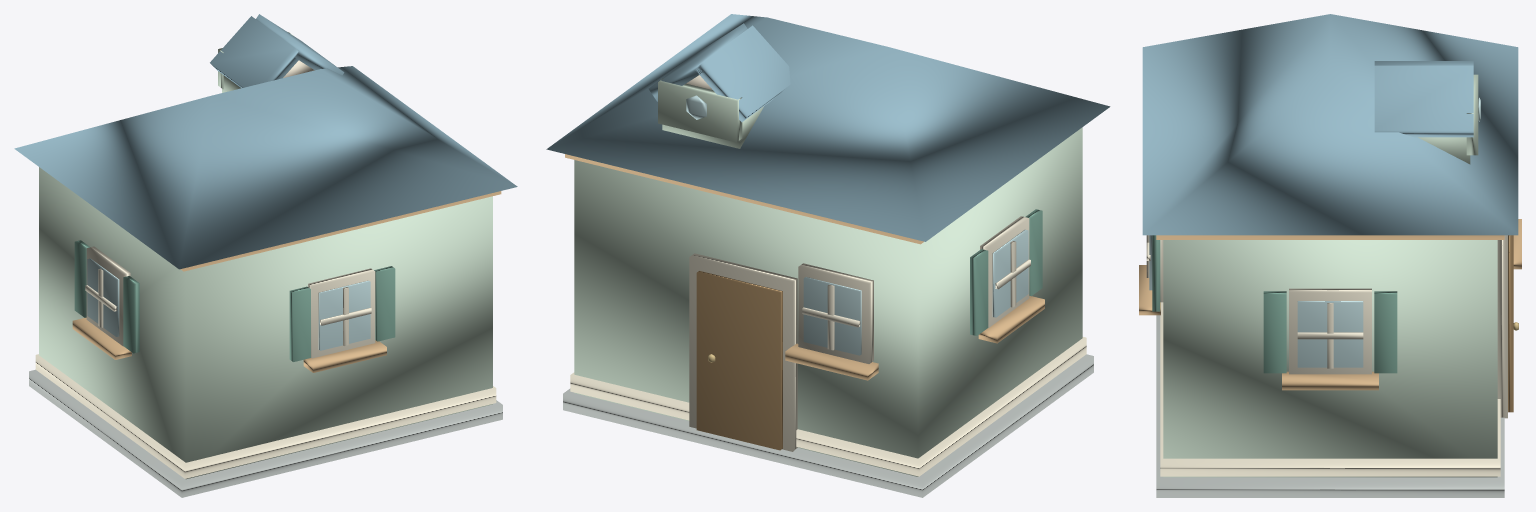
File: cottage_2_low.glb
3 renders of one model, left to right at view 1: azimuth 30°, elevation 25°; view 2: azimuth 150°, elevation 25°; view 3: azimuth 270°, elevation 25°, orthographic. The views are drawn at different scales.
Bounding box in the file's own units: 3.92 × 3.58 × 3.32.
